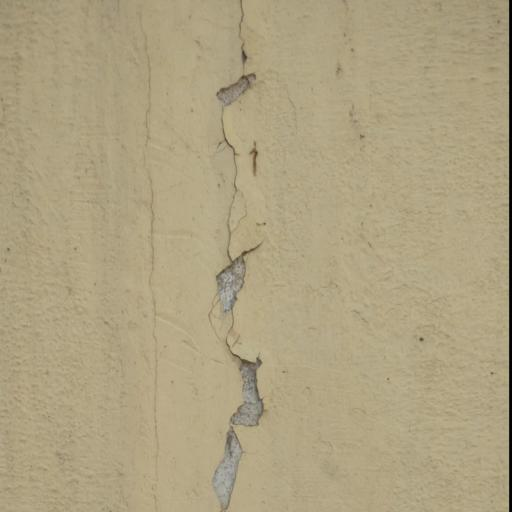peeling: (123, 0, 318, 512)
